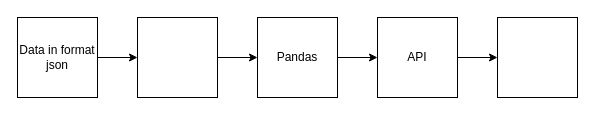
The diagram is 595 pixels wide and 115 high, and some of its shapes have lost their labels. Here are the shapes that lost their labels. From the top down, the box of each, then its label:
(136, 16, 218, 98): Process Data
(496, 16, 578, 98): Web
